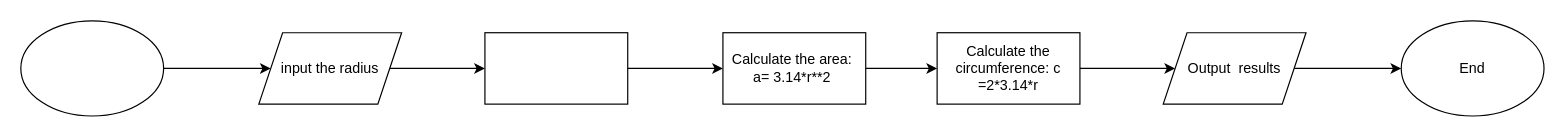
Image size: 1565x137. Some labels were removed from this diagram. The box of each missing label's shape, as (x1, y1, x2, y2) in pixels:
Calculate the diameter : d= r*2: (484, 32, 628, 104)
Start: (20, 20, 164, 116)
